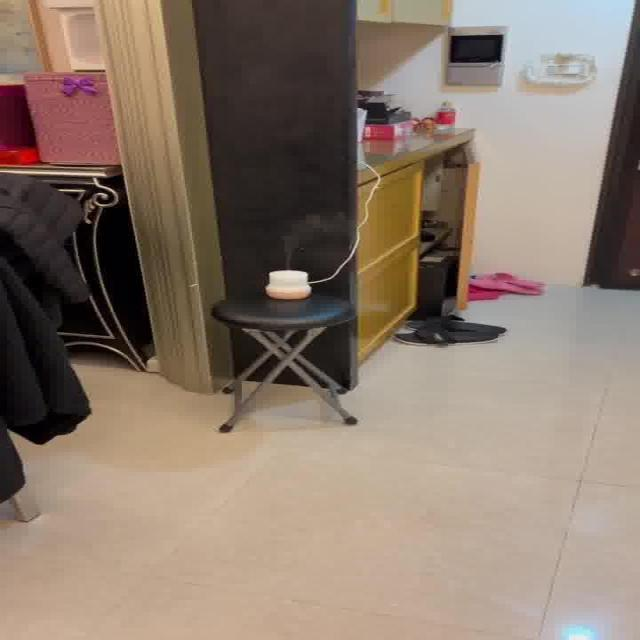fire: (275, 214, 345, 258)
